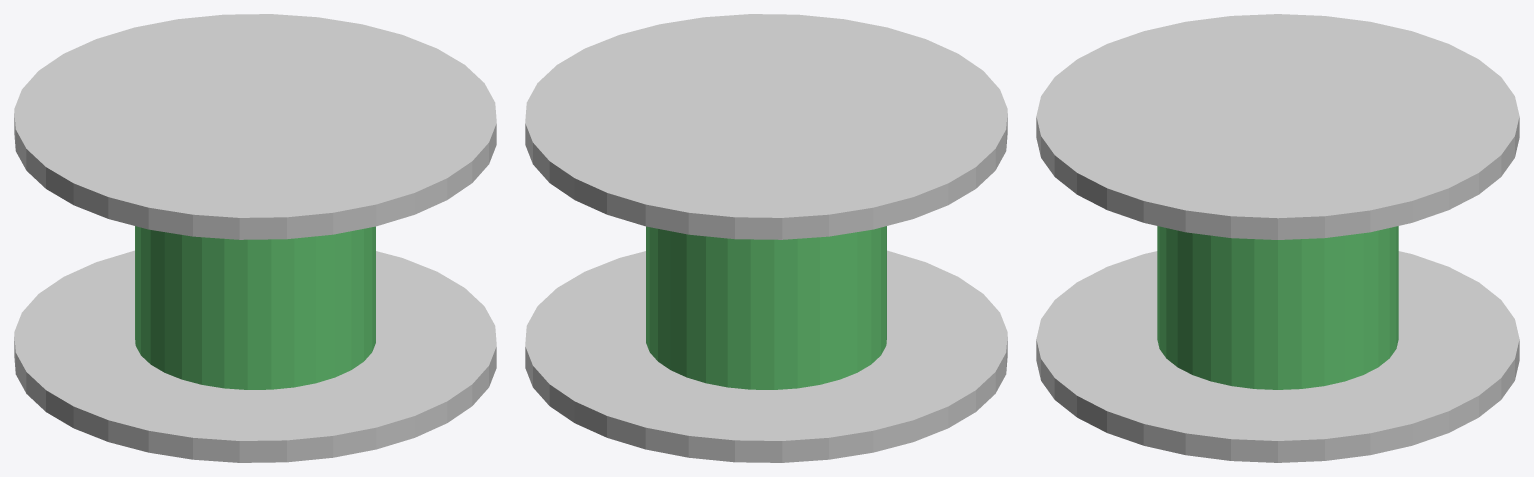
Rendered from Forklift.fbx.
The picture shows the model from 3 angles, left to right: view 1: azimuth 30°, elevation 25°; view 2: azimuth 150°, elevation 25°; view 3: azimuth 270°, elevation 25°; orthographic projection.
Visible parts, largest first — view 1: Cylinder.001, Cylinder.002, Cylinder; view 2: Cylinder.001, Cylinder.002, Cylinder; view 3: Cylinder.001, Cylinder.002, Cylinder.
Boxes of the visible parts, x1=… form: Cylinder.001: x1=14, y1=14, x2=496, y2=239; Cylinder.002: x1=14, y1=250, x2=496, y2=462; Cylinder: x1=135, y1=226, x2=375, y2=389; Cylinder.001: x1=525, y1=14, x2=1007, y2=239; Cylinder.002: x1=525, y1=250, x2=1007, y2=462; Cylinder: x1=646, y1=226, x2=886, y2=389; Cylinder.001: x1=1036, y1=14, x2=1519, y2=239; Cylinder.002: x1=1036, y1=251, x2=1519, y2=462; Cylinder: x1=1157, y1=226, x2=1398, y2=389.
Bounding box in the file's own units: 40 × 22.36 × 40.
